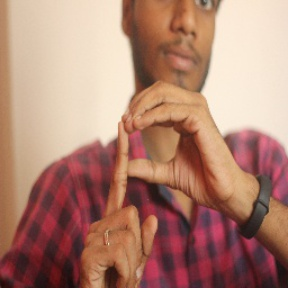P: (76, 80, 231, 280)
